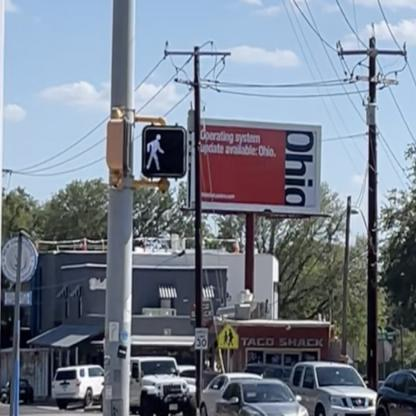Walk: (141, 126, 187, 177)
